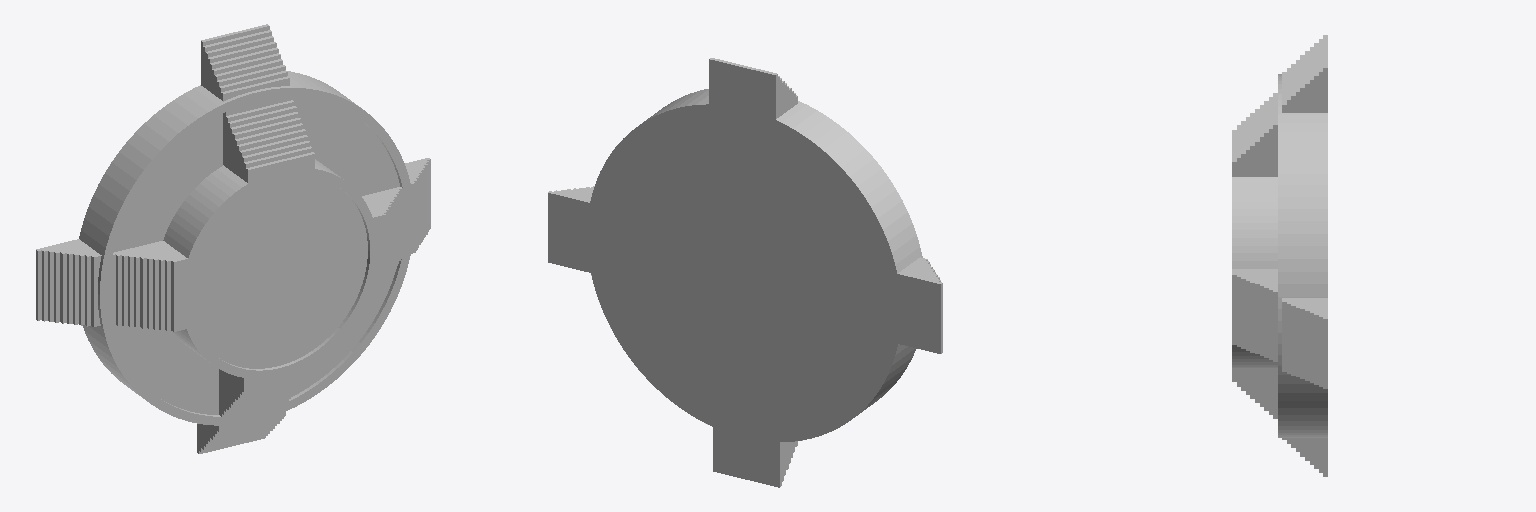
File: Pedestal.obj
3 renders of one model, left to right at view 1: azimuth 30°, elevation 25°; view 2: azimuth 150°, elevation 25°; view 3: azimuth 270°, elevation 25°, orthographic.
Parts seen in each view (by area): view 1: Body_01; view 2: Body_01; view 3: Body_01.
Boxes of the visible parts, x1=… form: Body_01: x1=36, y1=24, x2=430, y2=453; Body_01: x1=548, y1=58, x2=942, y2=487; Body_01: x1=1232, y1=35, x2=1327, y2=476.
Size of the model in its own units: 0.01 by 0.01 by 0.0021.